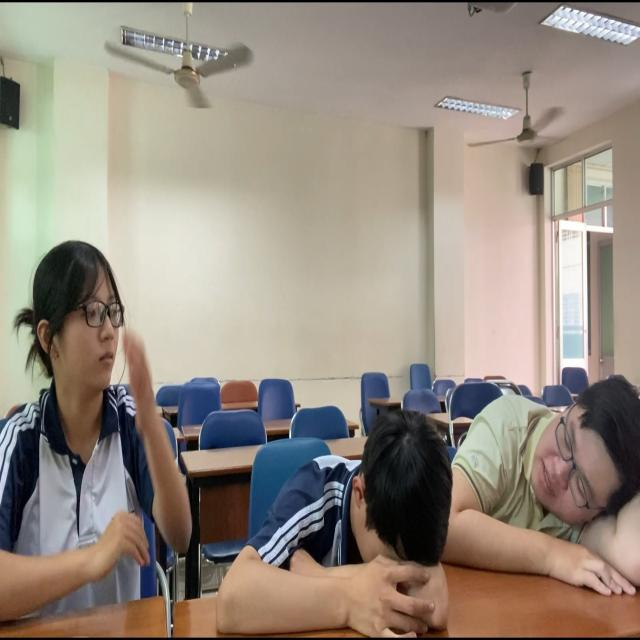raise_hand: (1, 215, 206, 640)
sleep: (205, 331, 477, 640), (409, 284, 640, 628)
